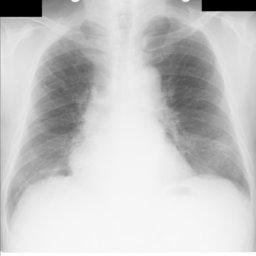left lobe: (144, 19, 250, 192)
right lobe: (8, 21, 108, 216)
